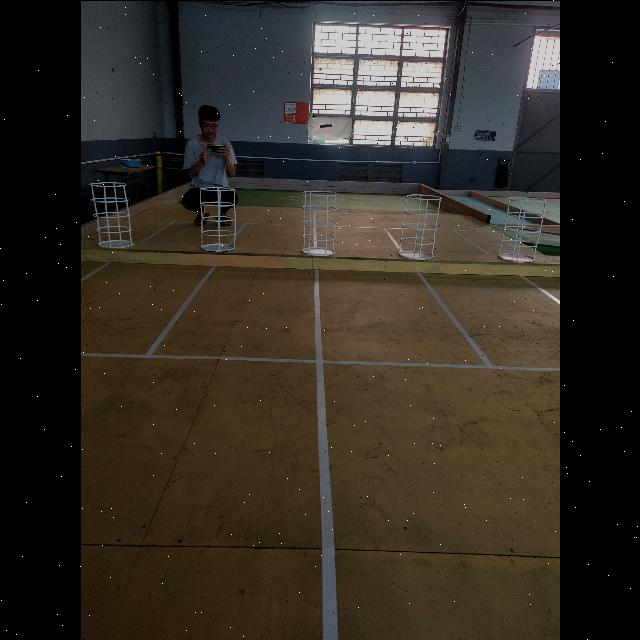S: (497, 196, 545, 263), (394, 193, 440, 262), (86, 181, 132, 248), (199, 186, 237, 253), (302, 188, 336, 255)
